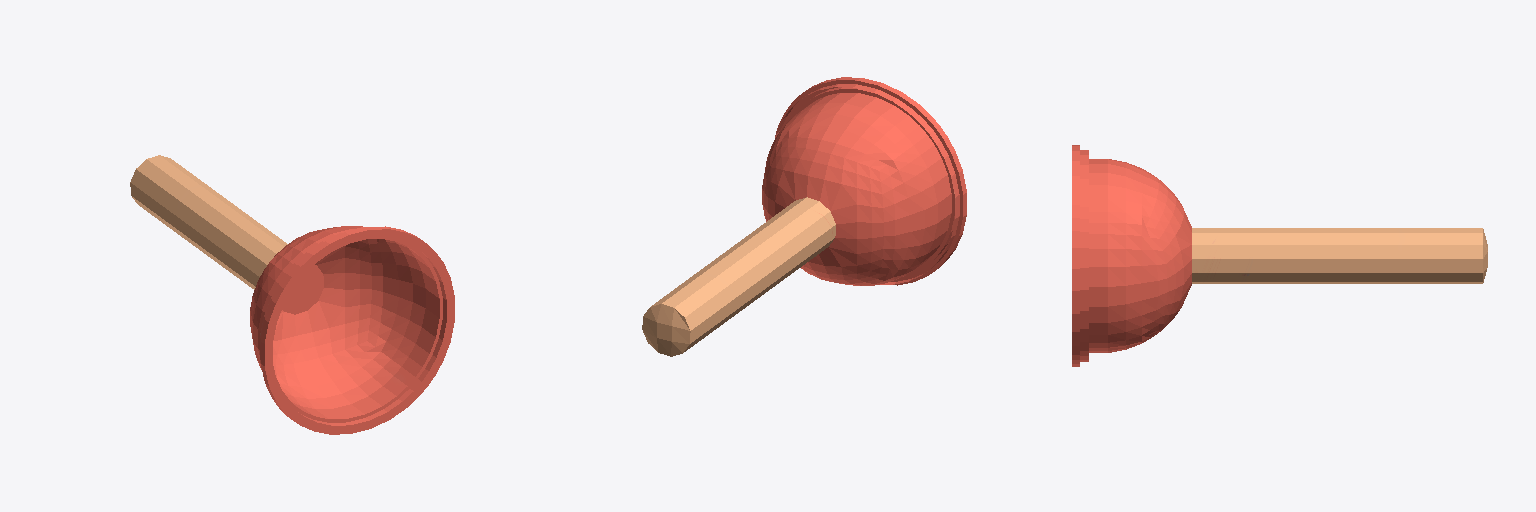
The picture shows the model from 3 angles: view 1: azimuth 30°, elevation 25°; view 2: azimuth 150°, elevation 25°; view 3: azimuth 270°, elevation 25°; orthographic projection.
Parts seen in each view (by area): view 1: destapa; view 2: destapa; view 3: destapa.
Boxes of the visible parts, x1,y1,x2,y2 form: destapa: [130, 155, 454, 434]; destapa: [642, 77, 966, 356]; destapa: [1072, 145, 1487, 366].
Bounding box in the file's own units: 2.9 × 2.9 × 5.46.
1 materials, 1 textured.